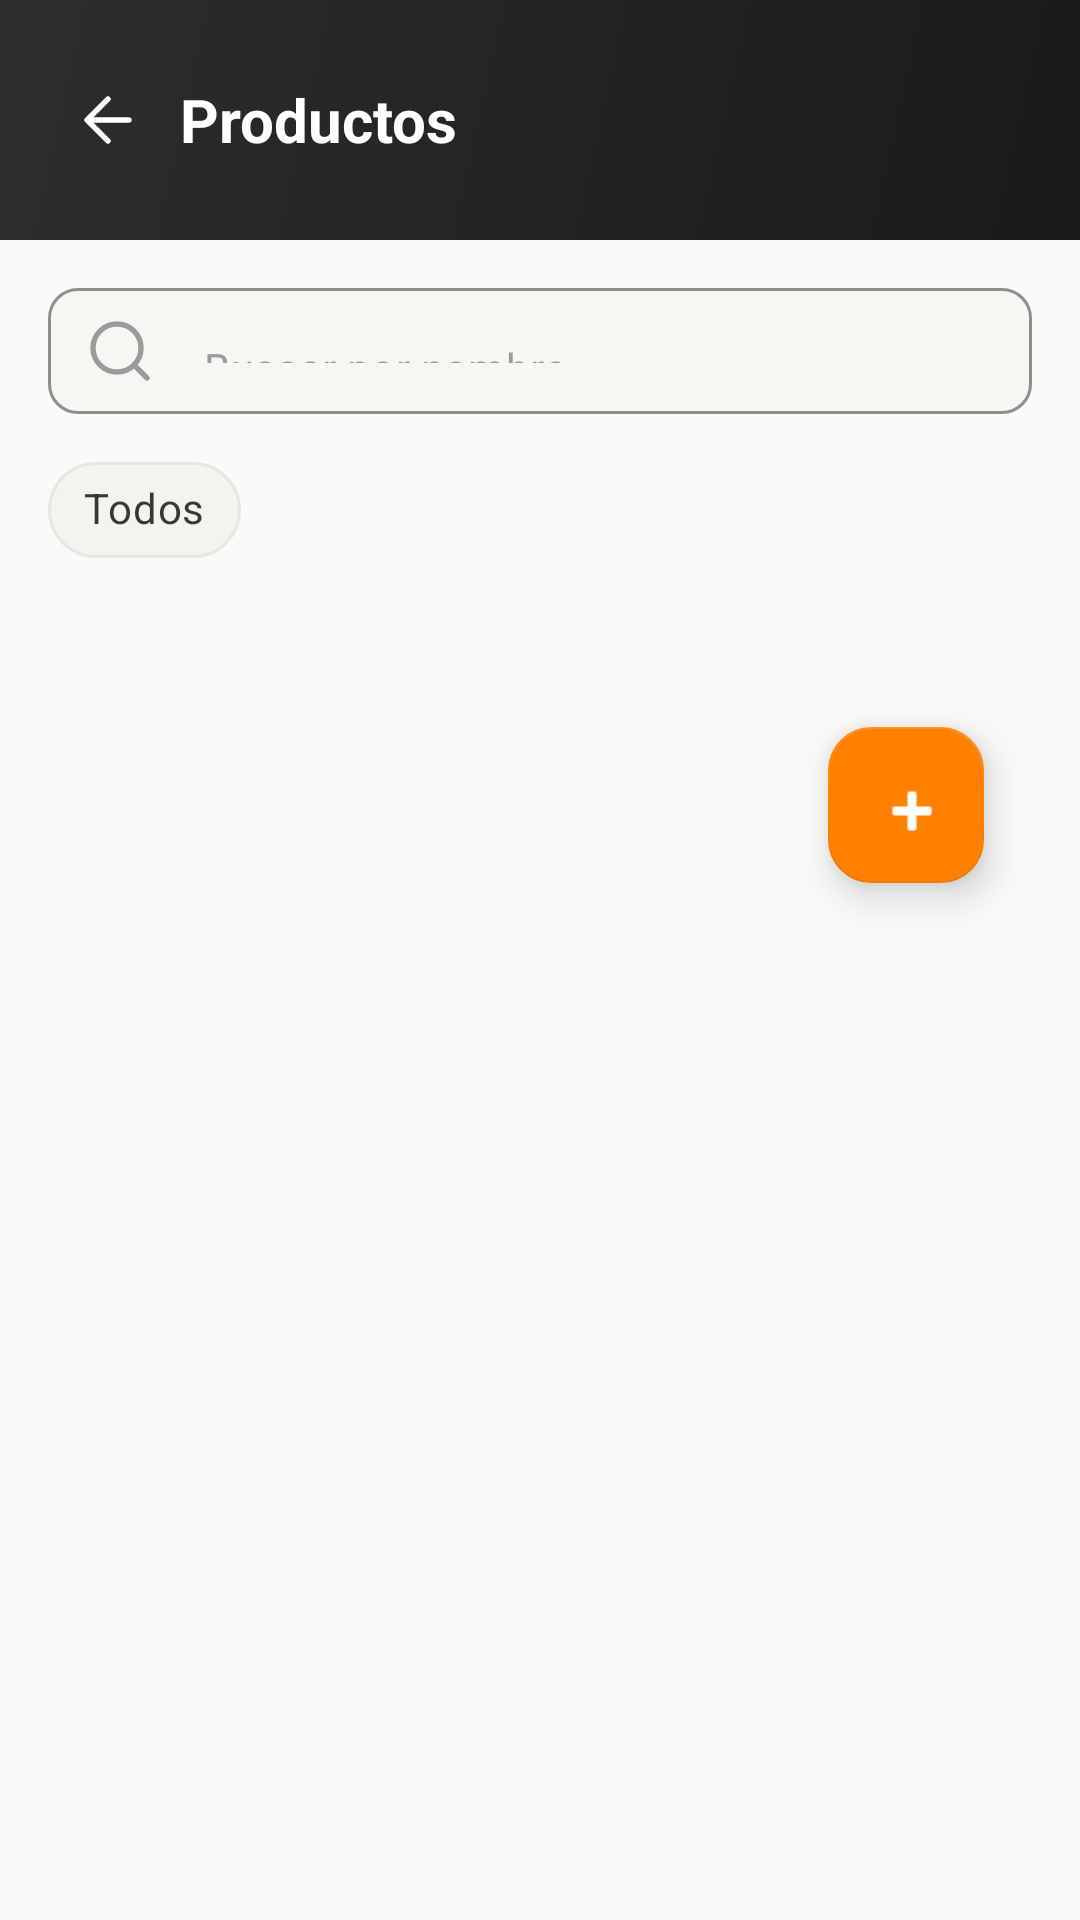

Screen size 1080x1920. Icon name, then its center in pixels as [x,y]:
back: [108,120]
Crear producto: [906,805]
